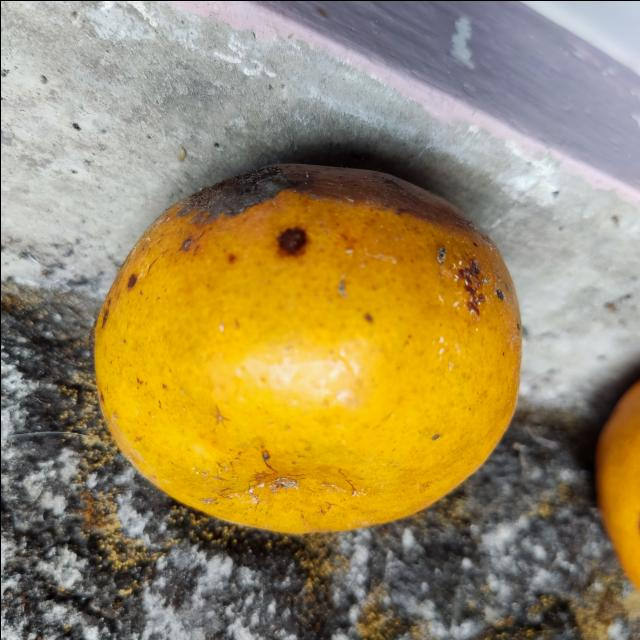orange: (91, 158, 522, 538)
